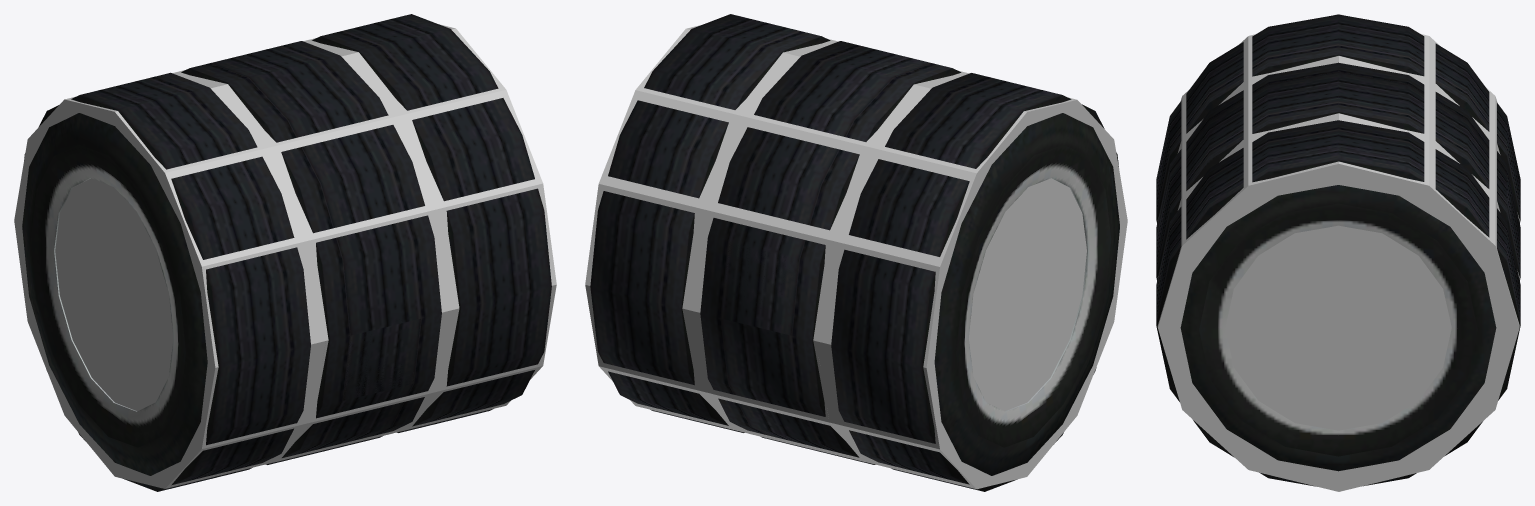
The model's file is tire_16_out.glb.
3 views of the same model, side by side, from view 1: azimuth 30°, elevation 25°; view 2: azimuth 150°, elevation 25°; view 3: azimuth 270°, elevation 25° (orthographic). The views are drawn at different scales.
Visible parts, largest first — view 1: Surface8, tire_rr_shadow, Surface6, Surface0, tire_rl_shadow, tire_fr_shadow, tire_fl_shadow; view 2: Surface8, tire_rr_shadow, Surface6, Surface0, tire_rl_shadow, tire_fr_shadow; view 3: tire_rl_shadow, Surface6, Surface8, Surface0, tire_rr_shadow.
Part boxes in pixels (left/top/right/bottom): Surface8: left=22, top=63, right=420, bottom=491; tire_rr_shadow: left=14, top=70, right=415, bottom=488; Surface6: left=312, top=14, right=551, bottom=432; Surface0: left=211, top=41, right=441, bottom=442; tire_rl_shadow: left=292, top=24, right=556, bottom=432; tire_fr_shadow: left=276, top=340, right=409, bottom=461; tire_fl_shadow: left=296, top=312, right=443, bottom=456; Surface8: left=721, top=63, right=1119, bottom=491; tire_rr_shadow: left=725, top=70, right=1127, bottom=489; Surface6: left=590, top=14, right=830, bottom=432; Surface0: left=700, top=41, right=931, bottom=442; tire_rl_shadow: left=585, top=25, right=851, bottom=433; tire_fr_shadow: left=731, top=340, right=865, bottom=462; tire_rl_shadow: left=1157, top=92, right=1519, bottom=491; Surface6: left=1156, top=112, right=1520, bottom=486; Surface8: left=1156, top=14, right=1520, bottom=235; Surface0: left=1156, top=72, right=1520, bottom=280; tire_rr_shadow: left=1157, top=14, right=1519, bottom=221.
Bounding box in the file's own units: 1.11 × 1.11 × 1.11.
